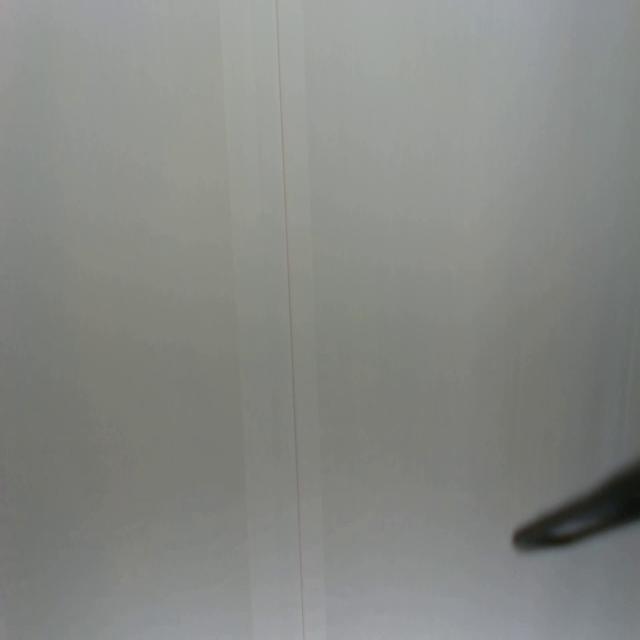crease: (274, 0, 306, 640)
